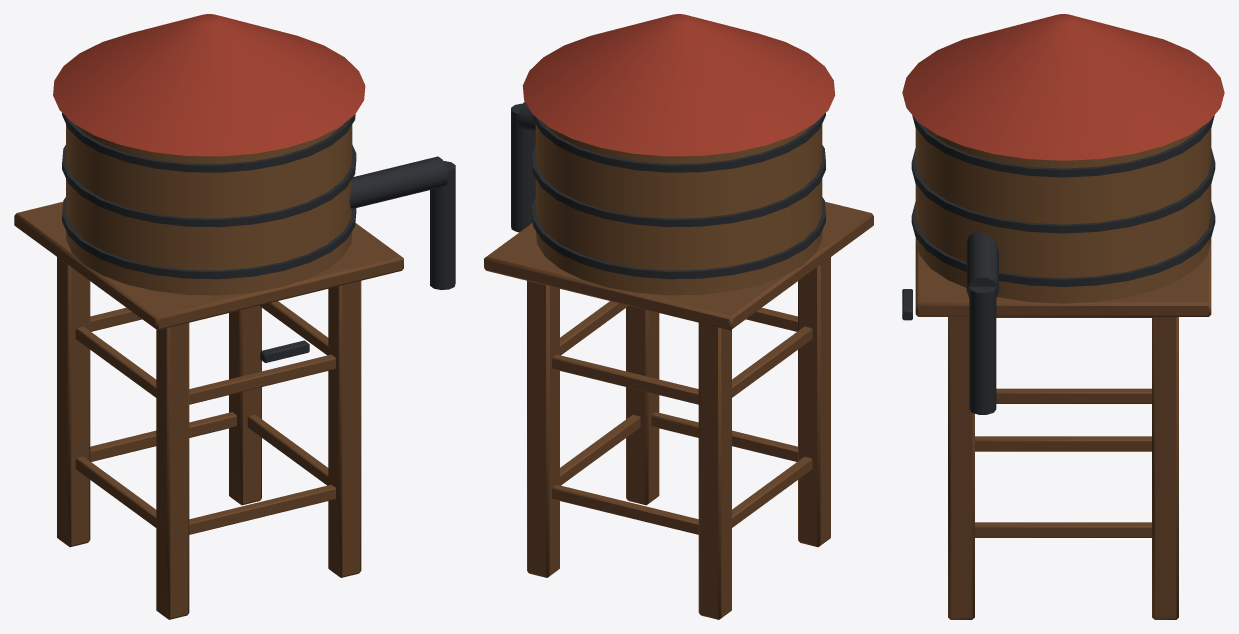
File: tanque.glb
The picture shows the model from 3 angles, left to right: view 1: azimuth 30°, elevation 25°; view 2: azimuth 150°, elevation 25°; view 3: azimuth 270°, elevation 25°; orthographic projection. The views are drawn at different scales.
Visible parts, largest first — view 1: tanque; view 2: tanque; view 3: tanque.
Boxes of the visible parts, x1=… form: tanque: x1=14, y1=14, x2=455, y2=619; tanque: x1=484, y1=14, x2=873, y2=619; tanque: x1=902, y1=14, x2=1224, y2=619.
Size of the model in its own units: 1.51 by 2.27 by 1.2.
